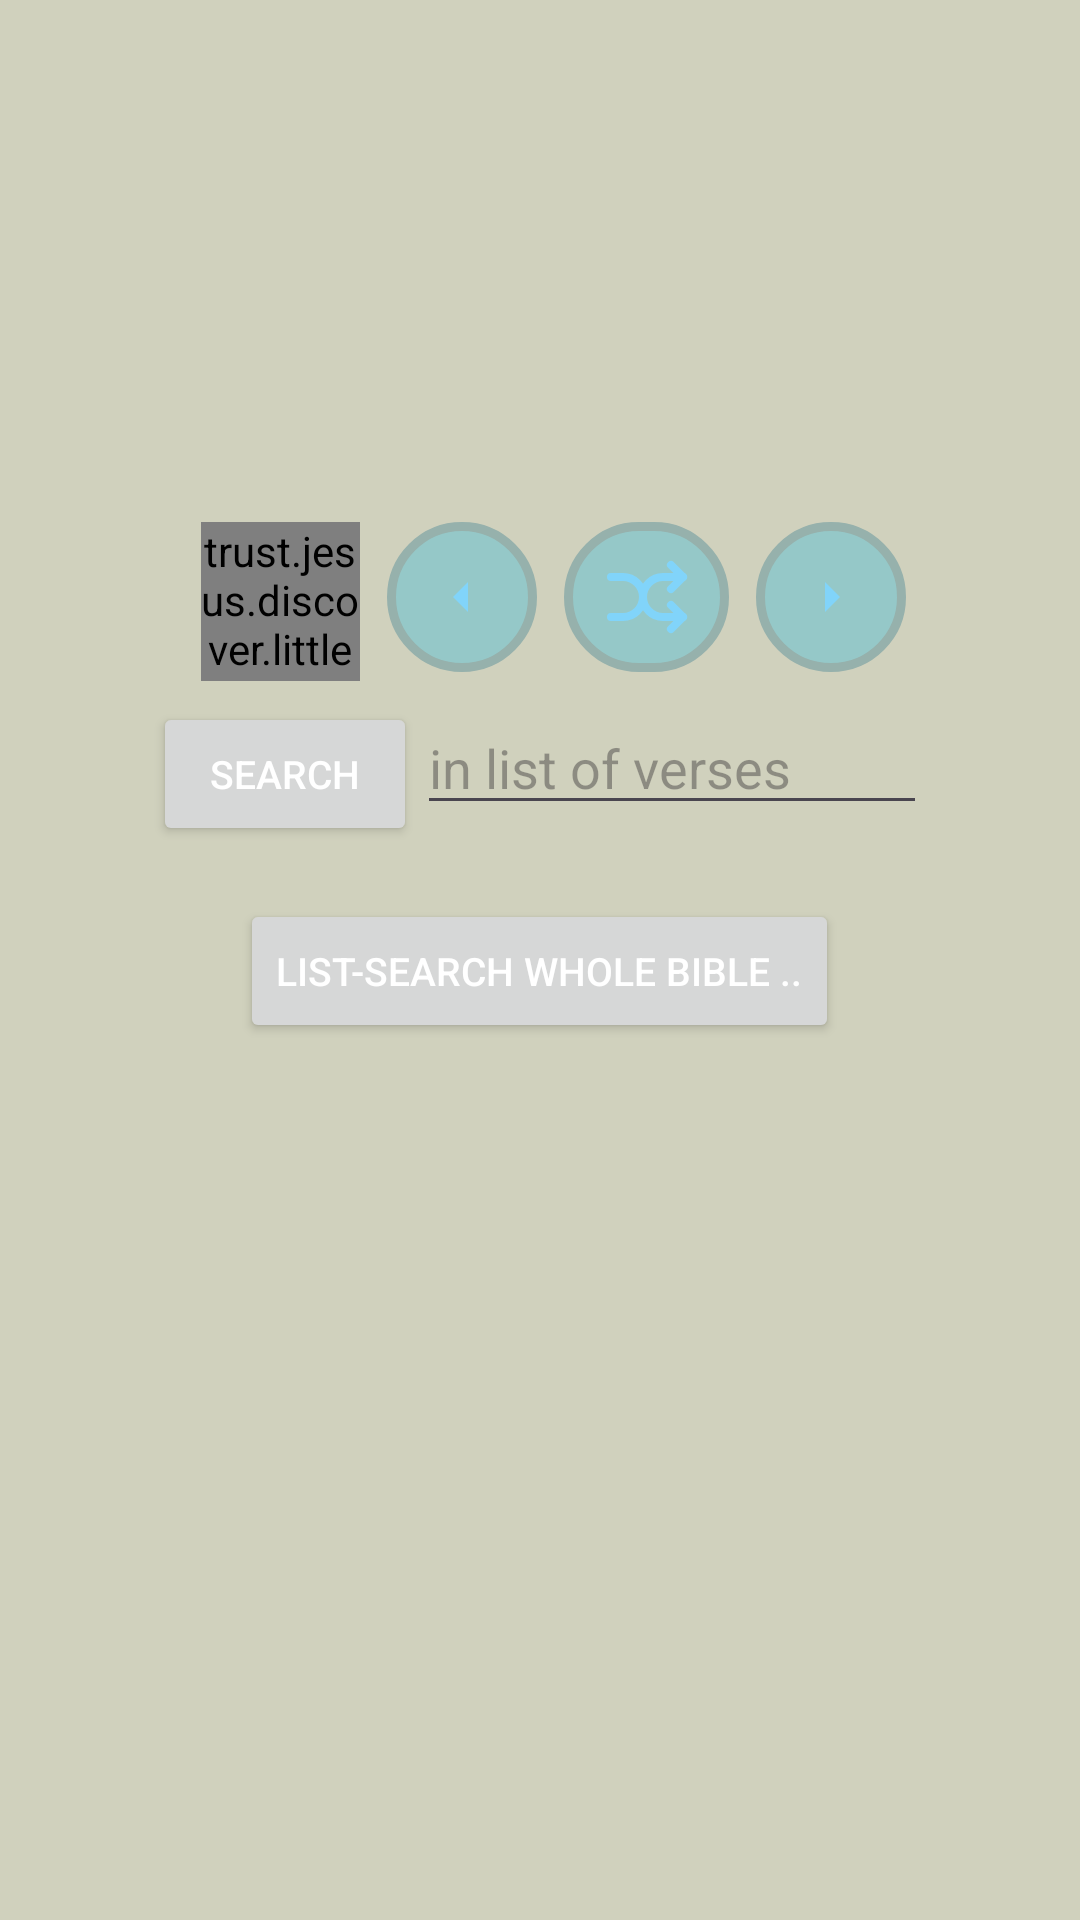

Where icons sit on this 1080*1920 app screen, as (x1, y1, x2, y2):
arrow left: (387, 522, 537, 672)
arrow right: (756, 522, 906, 672)
shuffle: (564, 522, 729, 672)
